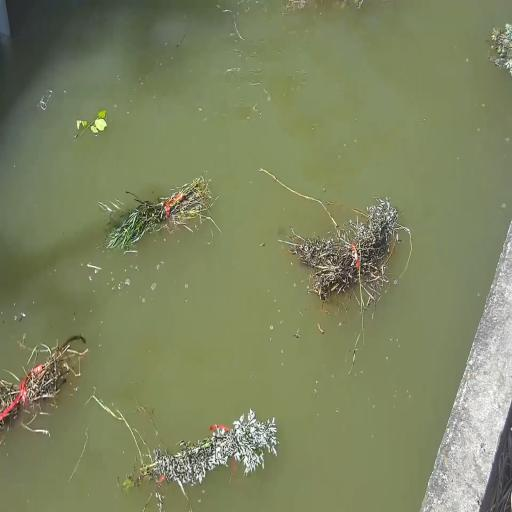twig: (122, 416, 274, 494), (0, 333, 76, 439), (299, 215, 389, 303), (104, 192, 207, 260), (69, 98, 114, 152), (477, 25, 512, 71)
